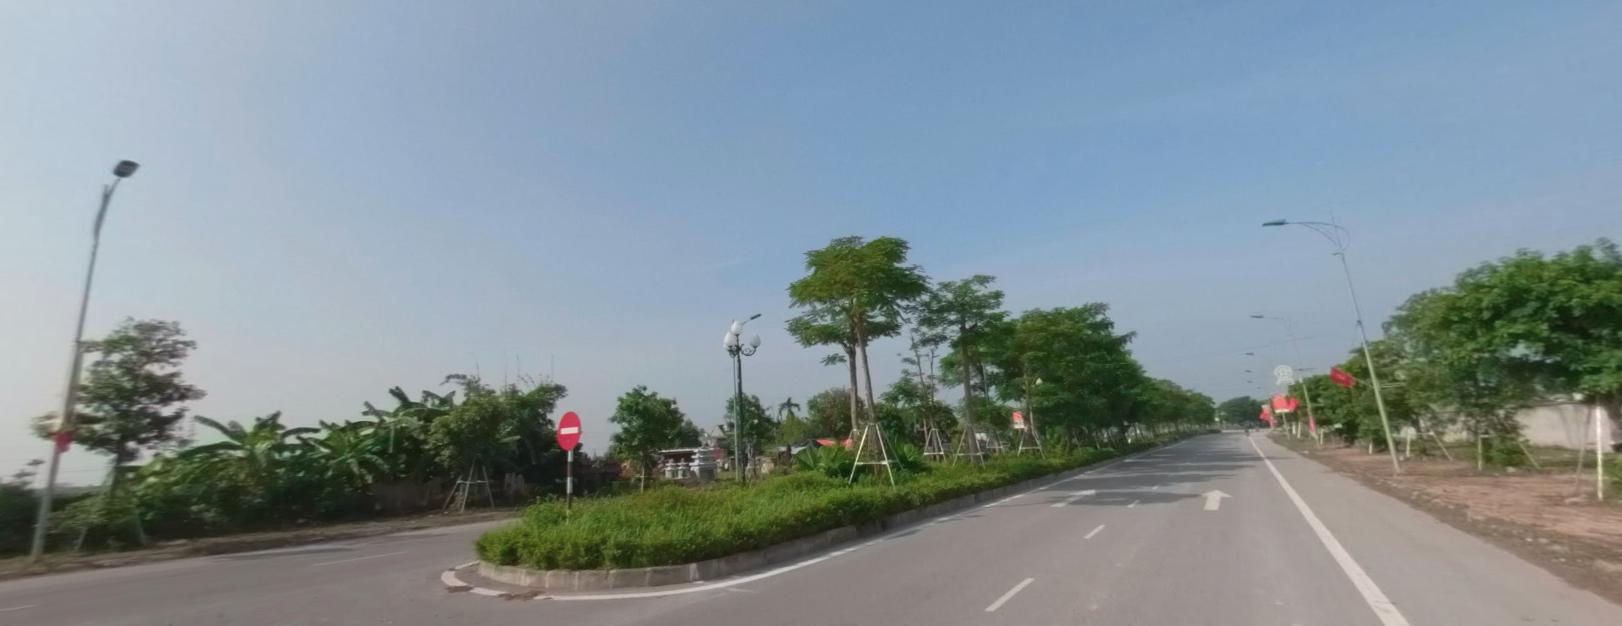Cam nguoc chieu: (555, 409, 580, 449)
